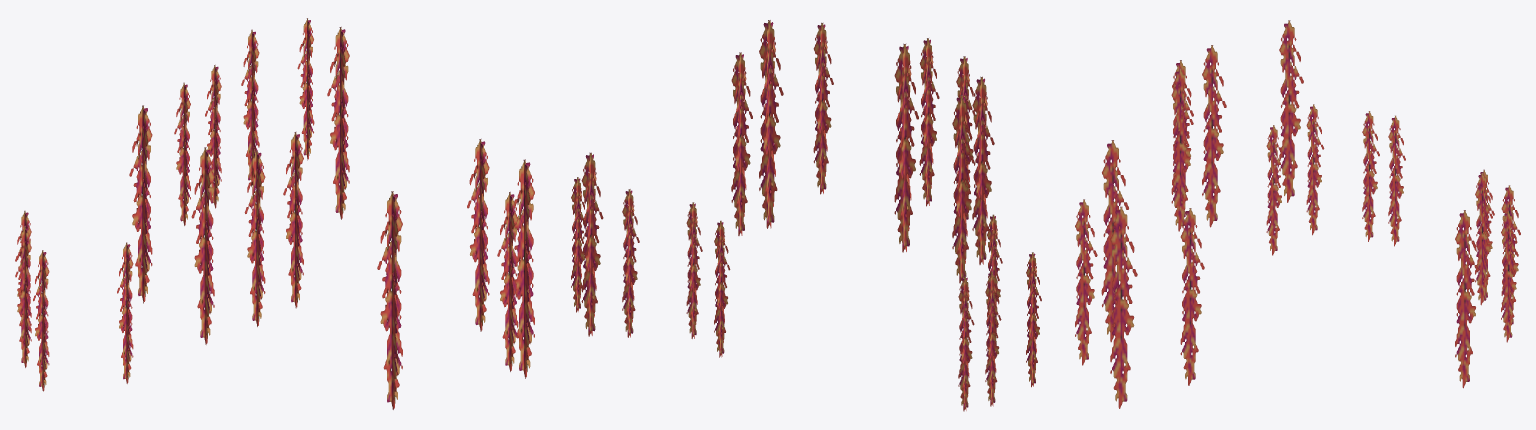
File: Tree_5_extra.obj
3 views of the same model, side by side, from view 1: azimuth 30°, elevation 25°; view 2: azimuth 150°, elevation 25°; view 3: azimuth 270°, elevation 25° (orthographic). The views are drawn at different scales.
Parts seen in each view (by area): view 1: WillowCurtain_Plane.016; view 2: WillowCurtain_Plane.016; view 3: WillowCurtain_Plane.016.
Boxes of the visible parts, x1,y1,x2,y2 form: WillowCurtain_Plane.016: [15, 18, 534, 409]; WillowCurtain_Plane.016: [571, 20, 1041, 411]; WillowCurtain_Plane.016: [1075, 20, 1520, 408].
Size of the model in its own units: 12.93 by 8.47 by 13.48.
